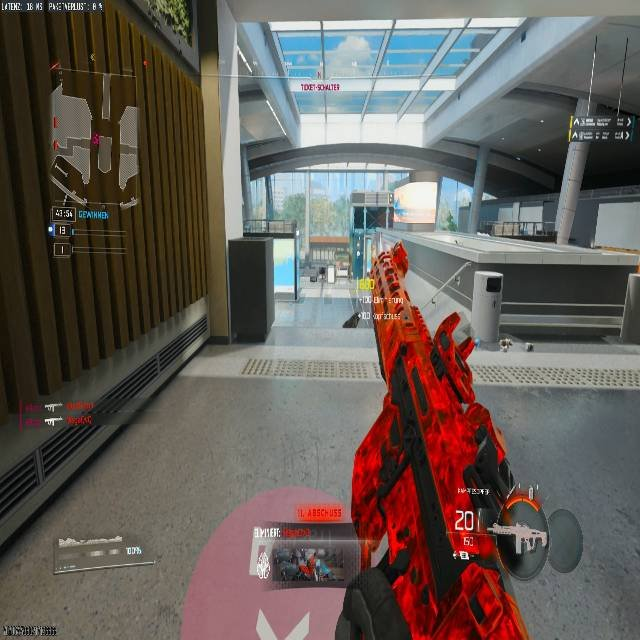head: (387, 240, 403, 258)
player: (374, 240, 408, 300)
